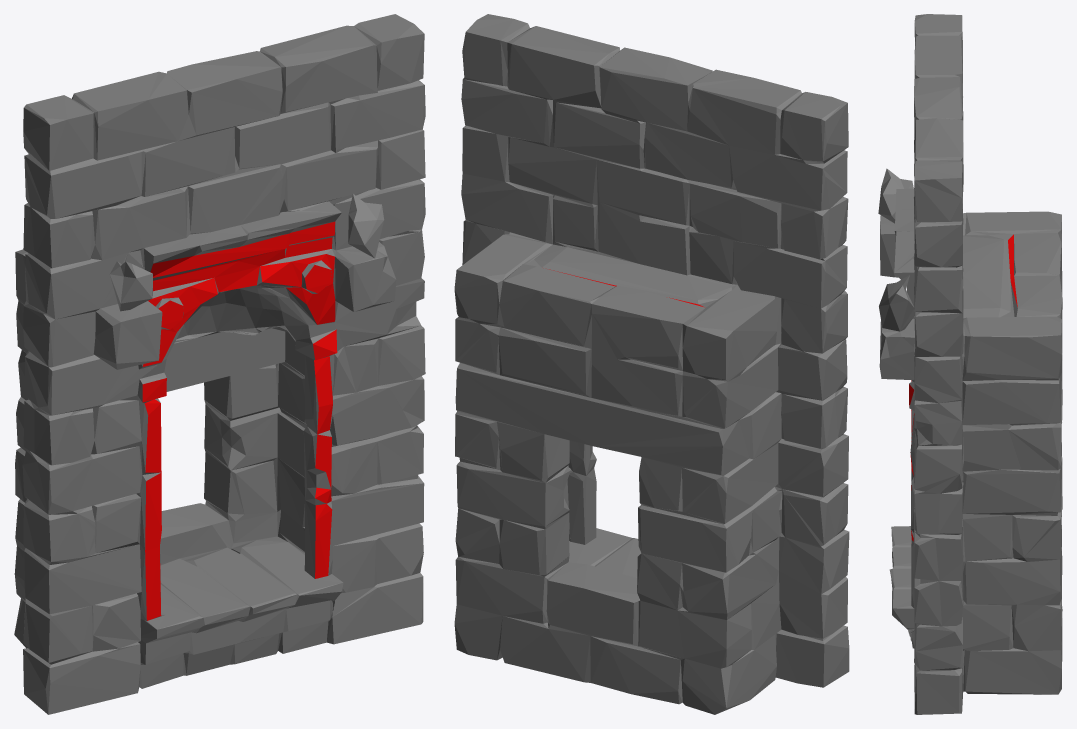
The model's file is WallWindow02.fbx.
3 views of the same model, side by side, from view 1: azimuth 30°, elevation 25°; view 2: azimuth 150°, elevation 25°; view 3: azimuth 270°, elevation 25° (orthographic). The views are drawn at different scales.
Visible parts, largest first — view 1: WallWindow02; view 2: WallWindow02; view 3: WallWindow02.
Boxes of the visible parts, x1,y1,x2,y2 form: WallWindow02: [14, 14, 425, 714]; WallWindow02: [454, 14, 849, 714]; WallWindow02: [878, 14, 1062, 714].
Size of the model in its own units: 402 by 600 by 186.
